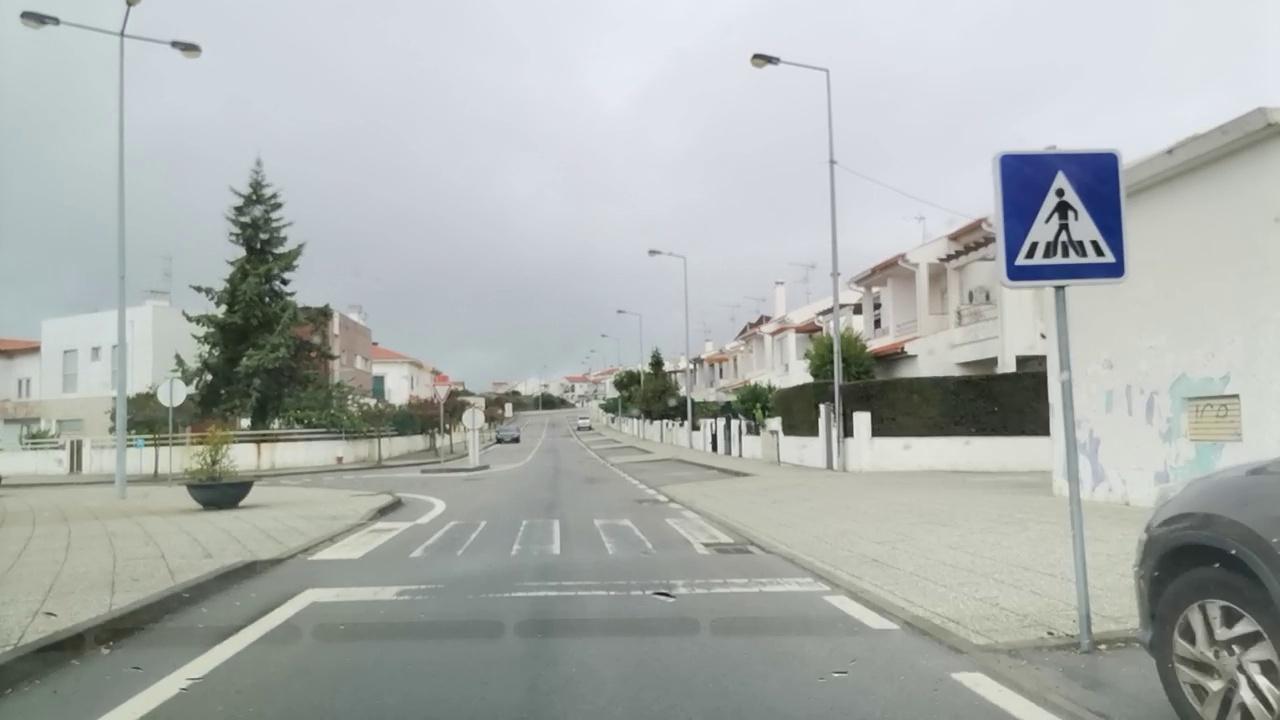Stairs: (315, 512, 738, 563)
